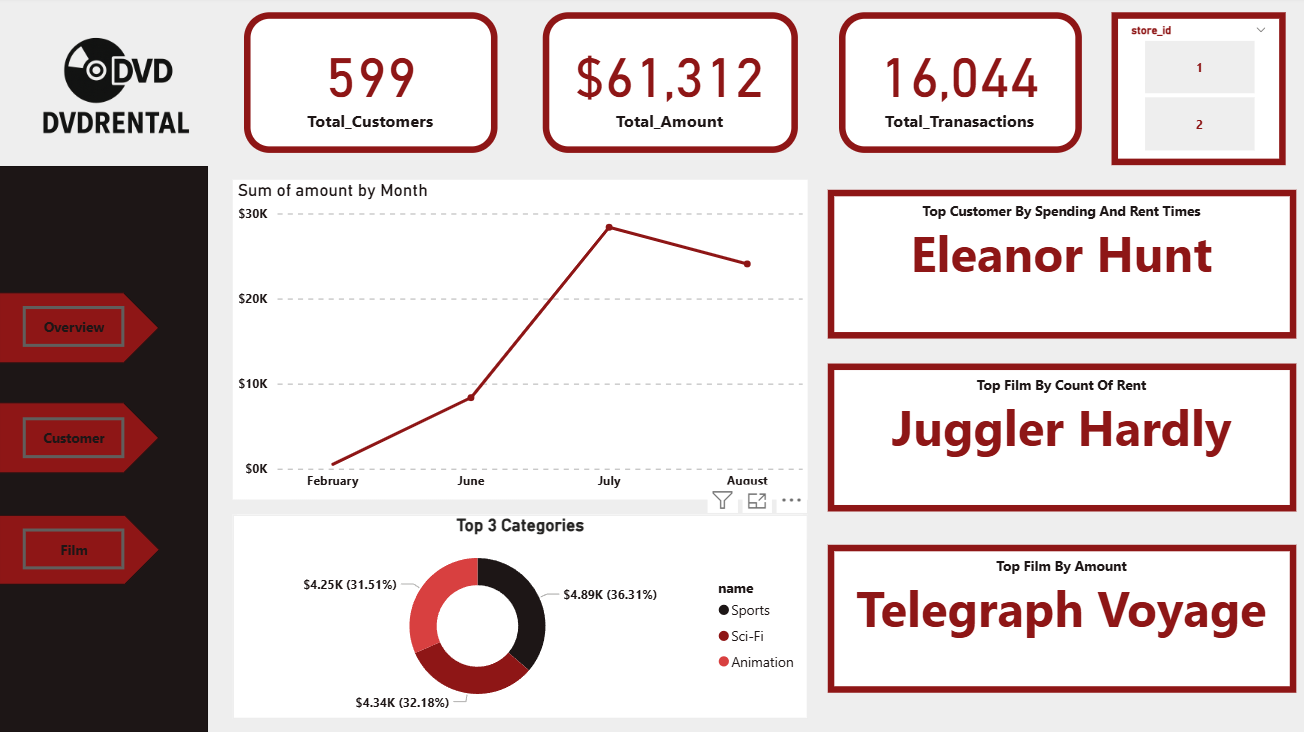

What the dashboard file says about the page in this screenshot:
{"tool":"powerbi","page":{"name":"Overview","canvas":[1280,720],"ordinal":0},"visuals":[{"type":"image","box":[0,0,229.2,188],"z":0},{"type":"shape","box":[0,166,204.5,554.4],"z":1000},{"type":"shape","box":[0,397.9,157.8,70],"z":2000},{"type":"shape","box":[0,507.7,157.8,68.6],"z":3000},{"type":"card","fields":{"Values":["actor.Total_customers"]},"box":[240.1,16.5,248.4,137.2],"z":4000},{"type":"card","fields":{"Values":["actor.Total_Amount"]},"box":[532.4,16.5,249.7,137.2],"z":5000},{"type":"card","fields":{"Values":["actor.Total_Tranasaction"]},"box":[822,16.5,237.4,137.2],"z":6000},{"type":"slicer","fields":{"Values":["inventory.store_id"]},"box":[1088.2,16.5,170.2,149.6],"z":7000},{"type":"lineChart","fields":{"Category":["rental.rental_date.Variation.Date Hierarchy.Month","rental.rental_date.Variation.Date Hierarchy.Day"],"Y":["payment.amount"]},"box":[229.2,179.8,562.6,312.9],"z":8000},{"type":"textbox","box":[811,189.4,458.3,145.5],"z":9000},{"type":"textbox","box":[811,359.5,458.3,145],"z":10000},{"type":"textbox","box":[811,536.5,458.3,145],"z":11000},{"type":"donutChart","title":"Top 3 Categories","fields":{"Category":["category.name"],"Y":["actor.Total_Amount"]},"box":[229.2,507.7,562.6,199],"z":12000},{"type":"shape","box":[0,289.5,157.8,70],"z":13000},{"type":"actionButton","box":[23.2,303.3,100.3,40.4],"z":14000},{"type":"actionButton","box":[23.2,412.1,100.3,40.4],"z":15000},{"type":"actionButton","box":[23.2,520.9,100.3,40.4],"z":16000}]}

Visuals, with their boxes in screenshot pixels (x1, y1, x2, y2), scaled from the page's 1280x720 canvas onto the 1304x732 screenshot:
image: locate(0, 0, 233, 191)
shape: locate(0, 169, 208, 731)
shape: locate(0, 405, 161, 476)
shape: locate(0, 516, 161, 586)
card - actor.Total_customers: locate(245, 17, 498, 156)
card - actor.Total_Amount: locate(542, 17, 797, 156)
card - actor.Total_Tranasaction: locate(837, 17, 1079, 156)
slicer - inventory.store_id: locate(1109, 17, 1282, 169)
lineChart - rental.rental_date.Variation.Date Hierarchy.Month x rental.rental_date.Variation.Date Hierarchy.Day: locate(233, 183, 807, 501)
textbox: locate(826, 193, 1293, 340)
textbox: locate(826, 365, 1293, 513)
textbox: locate(826, 545, 1293, 693)
"Top 3 Categories" donutChart: locate(233, 516, 807, 718)
shape: locate(0, 294, 161, 365)
actionButton: locate(24, 308, 126, 349)
actionButton: locate(24, 419, 126, 460)
actionButton: locate(24, 530, 126, 571)
